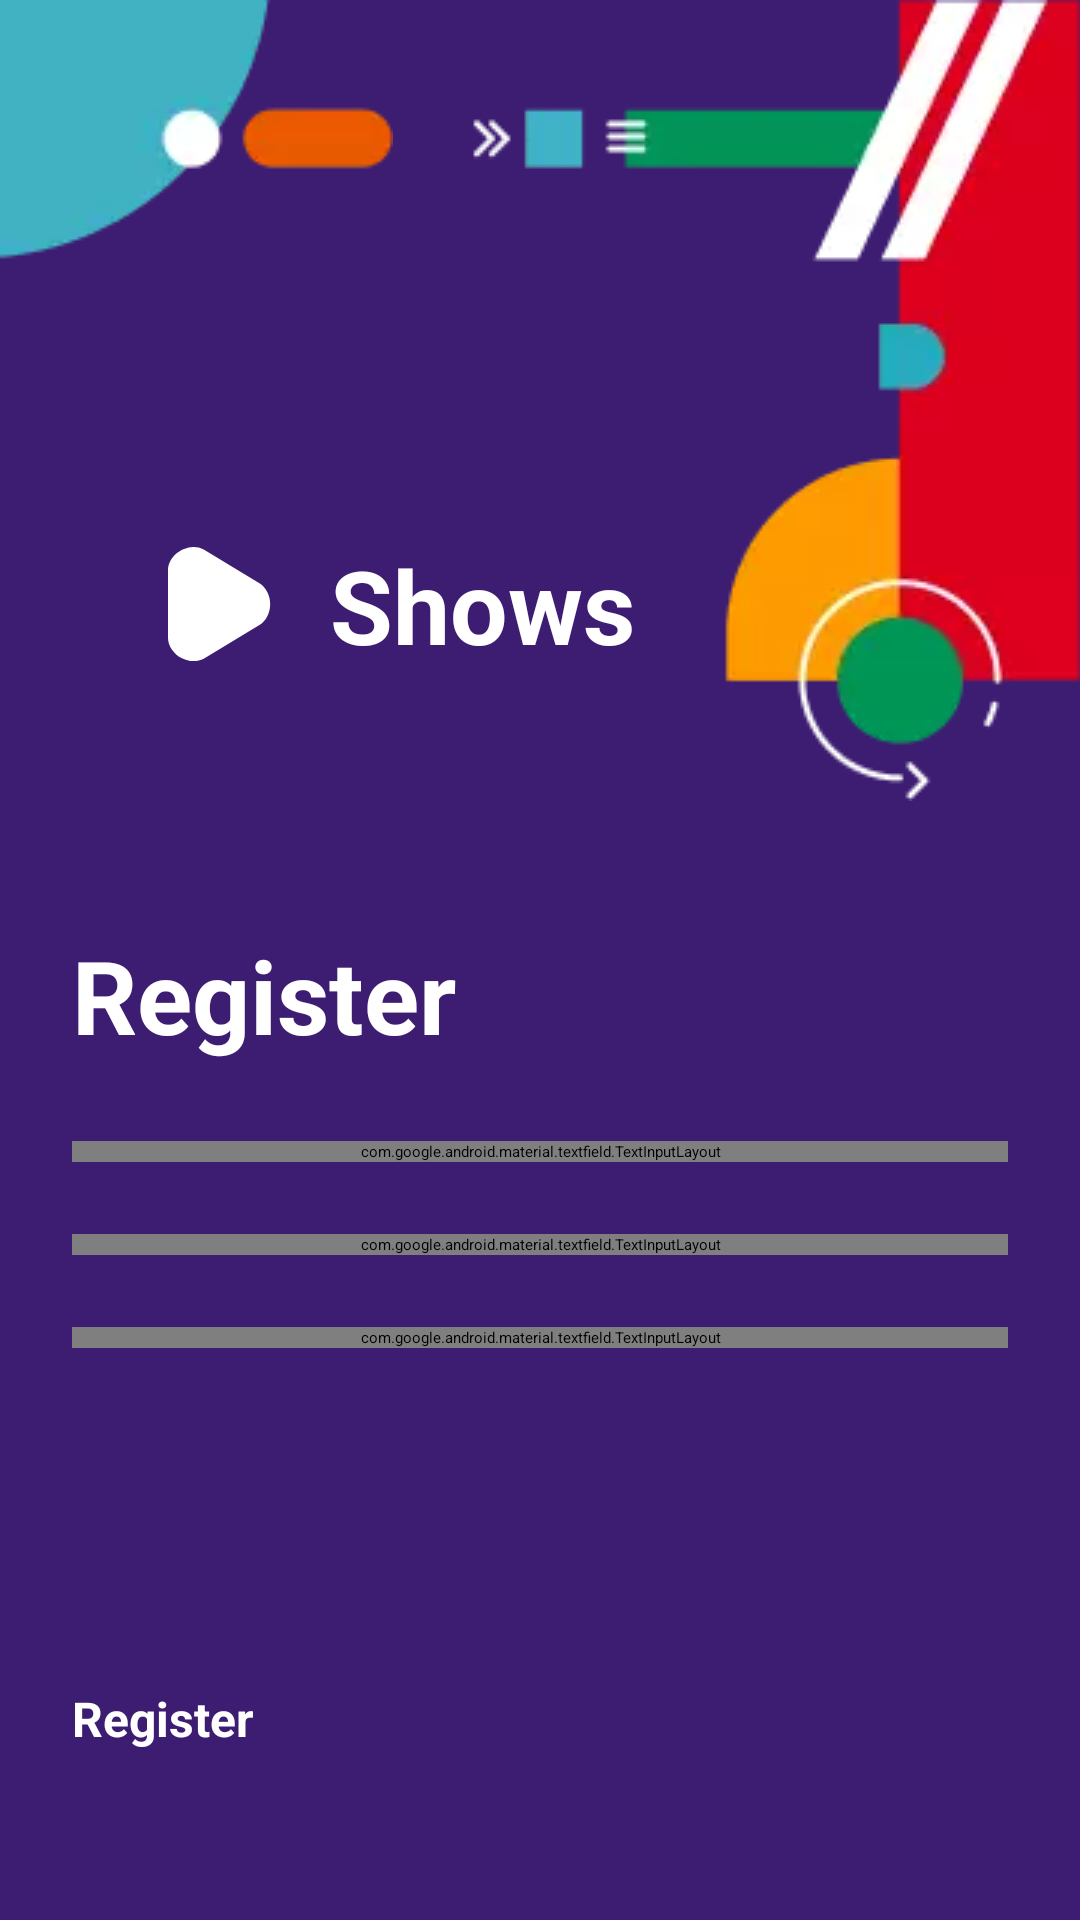

Screen size 1080*1920. Icon name, then its center in pixels as (x,y):
Play button: (219,604)
